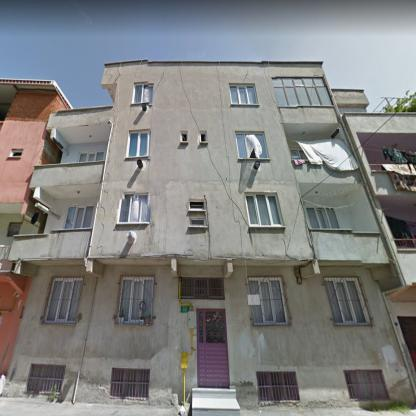door: (198, 309, 228, 386)
window: (325, 278, 370, 324), (249, 278, 288, 324), (272, 78, 333, 106), (45, 277, 82, 323), (117, 278, 154, 323), (257, 372, 299, 400), (346, 371, 388, 399), (246, 194, 282, 226), (112, 369, 148, 396), (27, 366, 64, 392), (119, 193, 150, 222), (181, 278, 223, 298), (305, 207, 341, 229), (236, 134, 267, 158), (64, 205, 93, 228), (127, 131, 150, 156), (230, 85, 257, 104), (134, 83, 152, 103), (78, 152, 103, 162), (291, 149, 307, 159), (8, 224, 20, 235), (190, 218, 205, 226), (190, 201, 204, 209), (200, 132, 207, 141), (10, 151, 22, 156), (181, 132, 187, 140)
